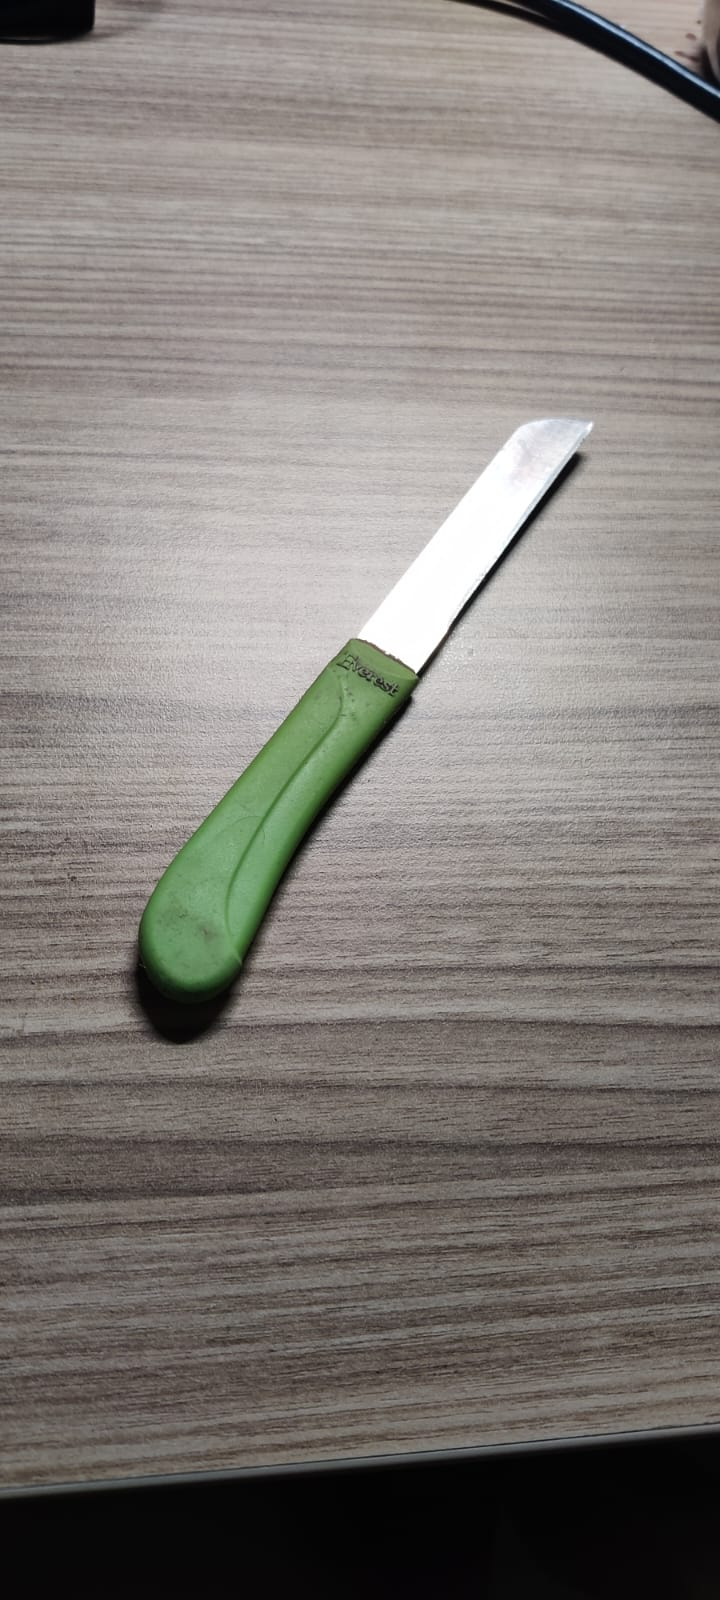knife: (136, 415, 592, 999)
